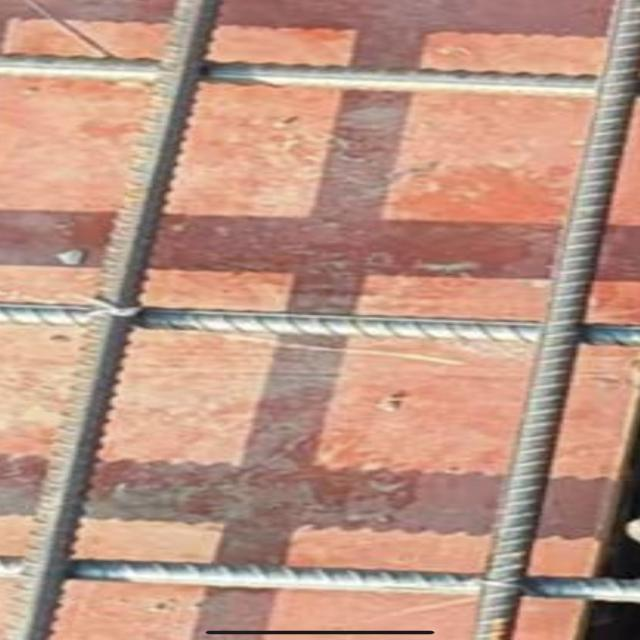ribbed bar: (0, 0, 225, 639), (465, 1, 639, 639), (0, 551, 638, 606), (0, 300, 638, 350), (0, 51, 604, 101)
